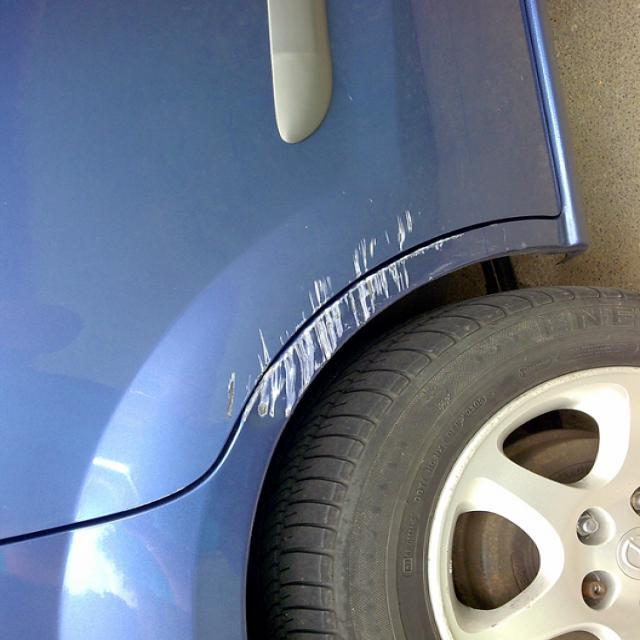scratch: (207, 194, 438, 446)
